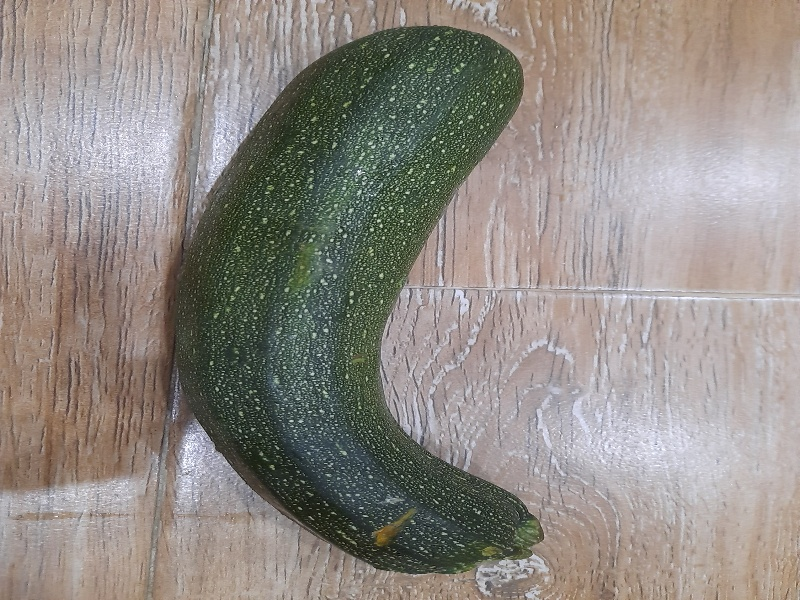vege: (170, 21, 571, 583)
